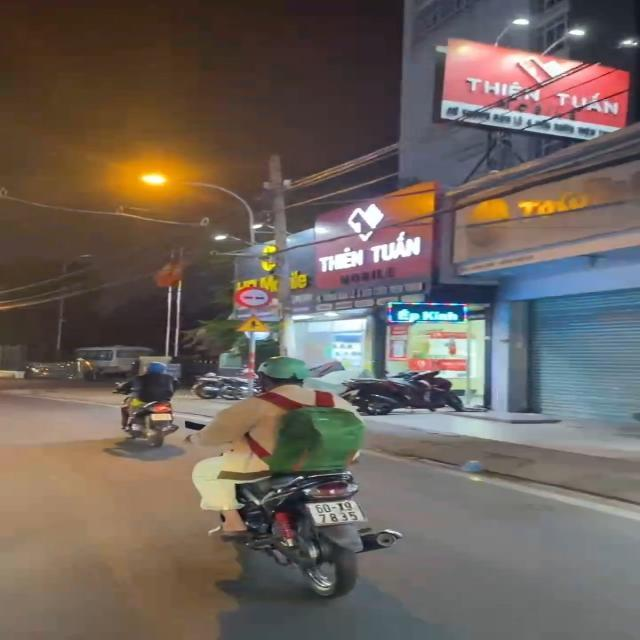125-cam-vuot: (235, 286, 272, 310)
207-giao-nhau-voi-duong-khong-uu-tien: (234, 315, 270, 333)
